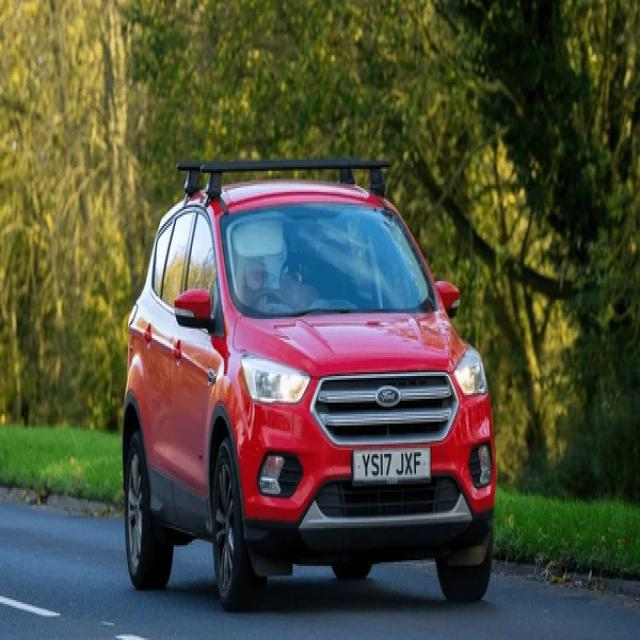ford: (376, 382, 401, 406)
